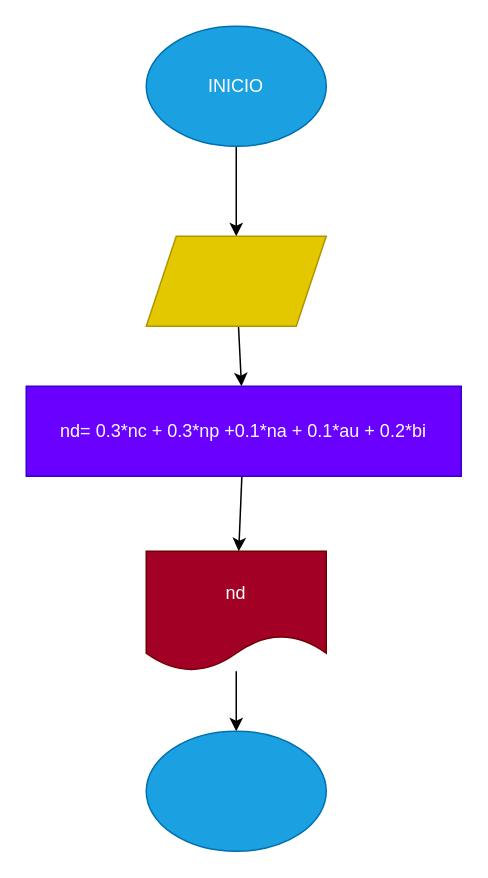
This 488x878 diagram has some shape labels left out. The shapes that lost their labels are listed below. From the top down, each one's centre as x and y in pixels, then its label:
At (x=235, y=280): "nc, np, na, au, bi".
At (x=235, y=790): "FIN".
